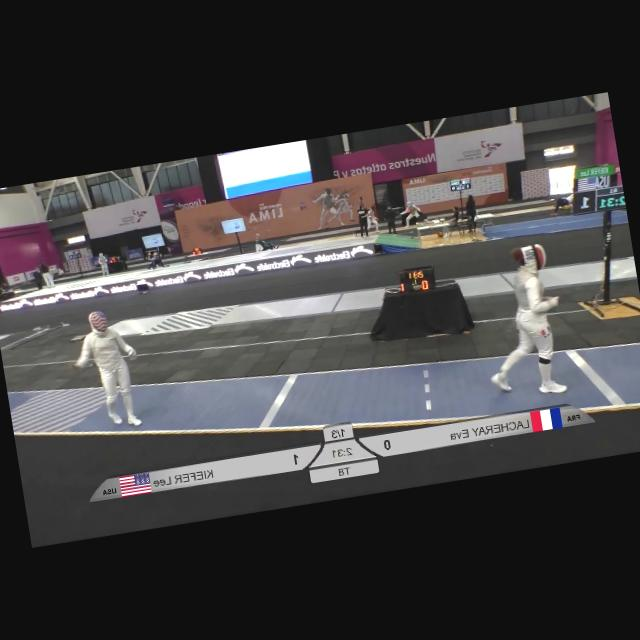blade: (64, 338, 138, 369)
